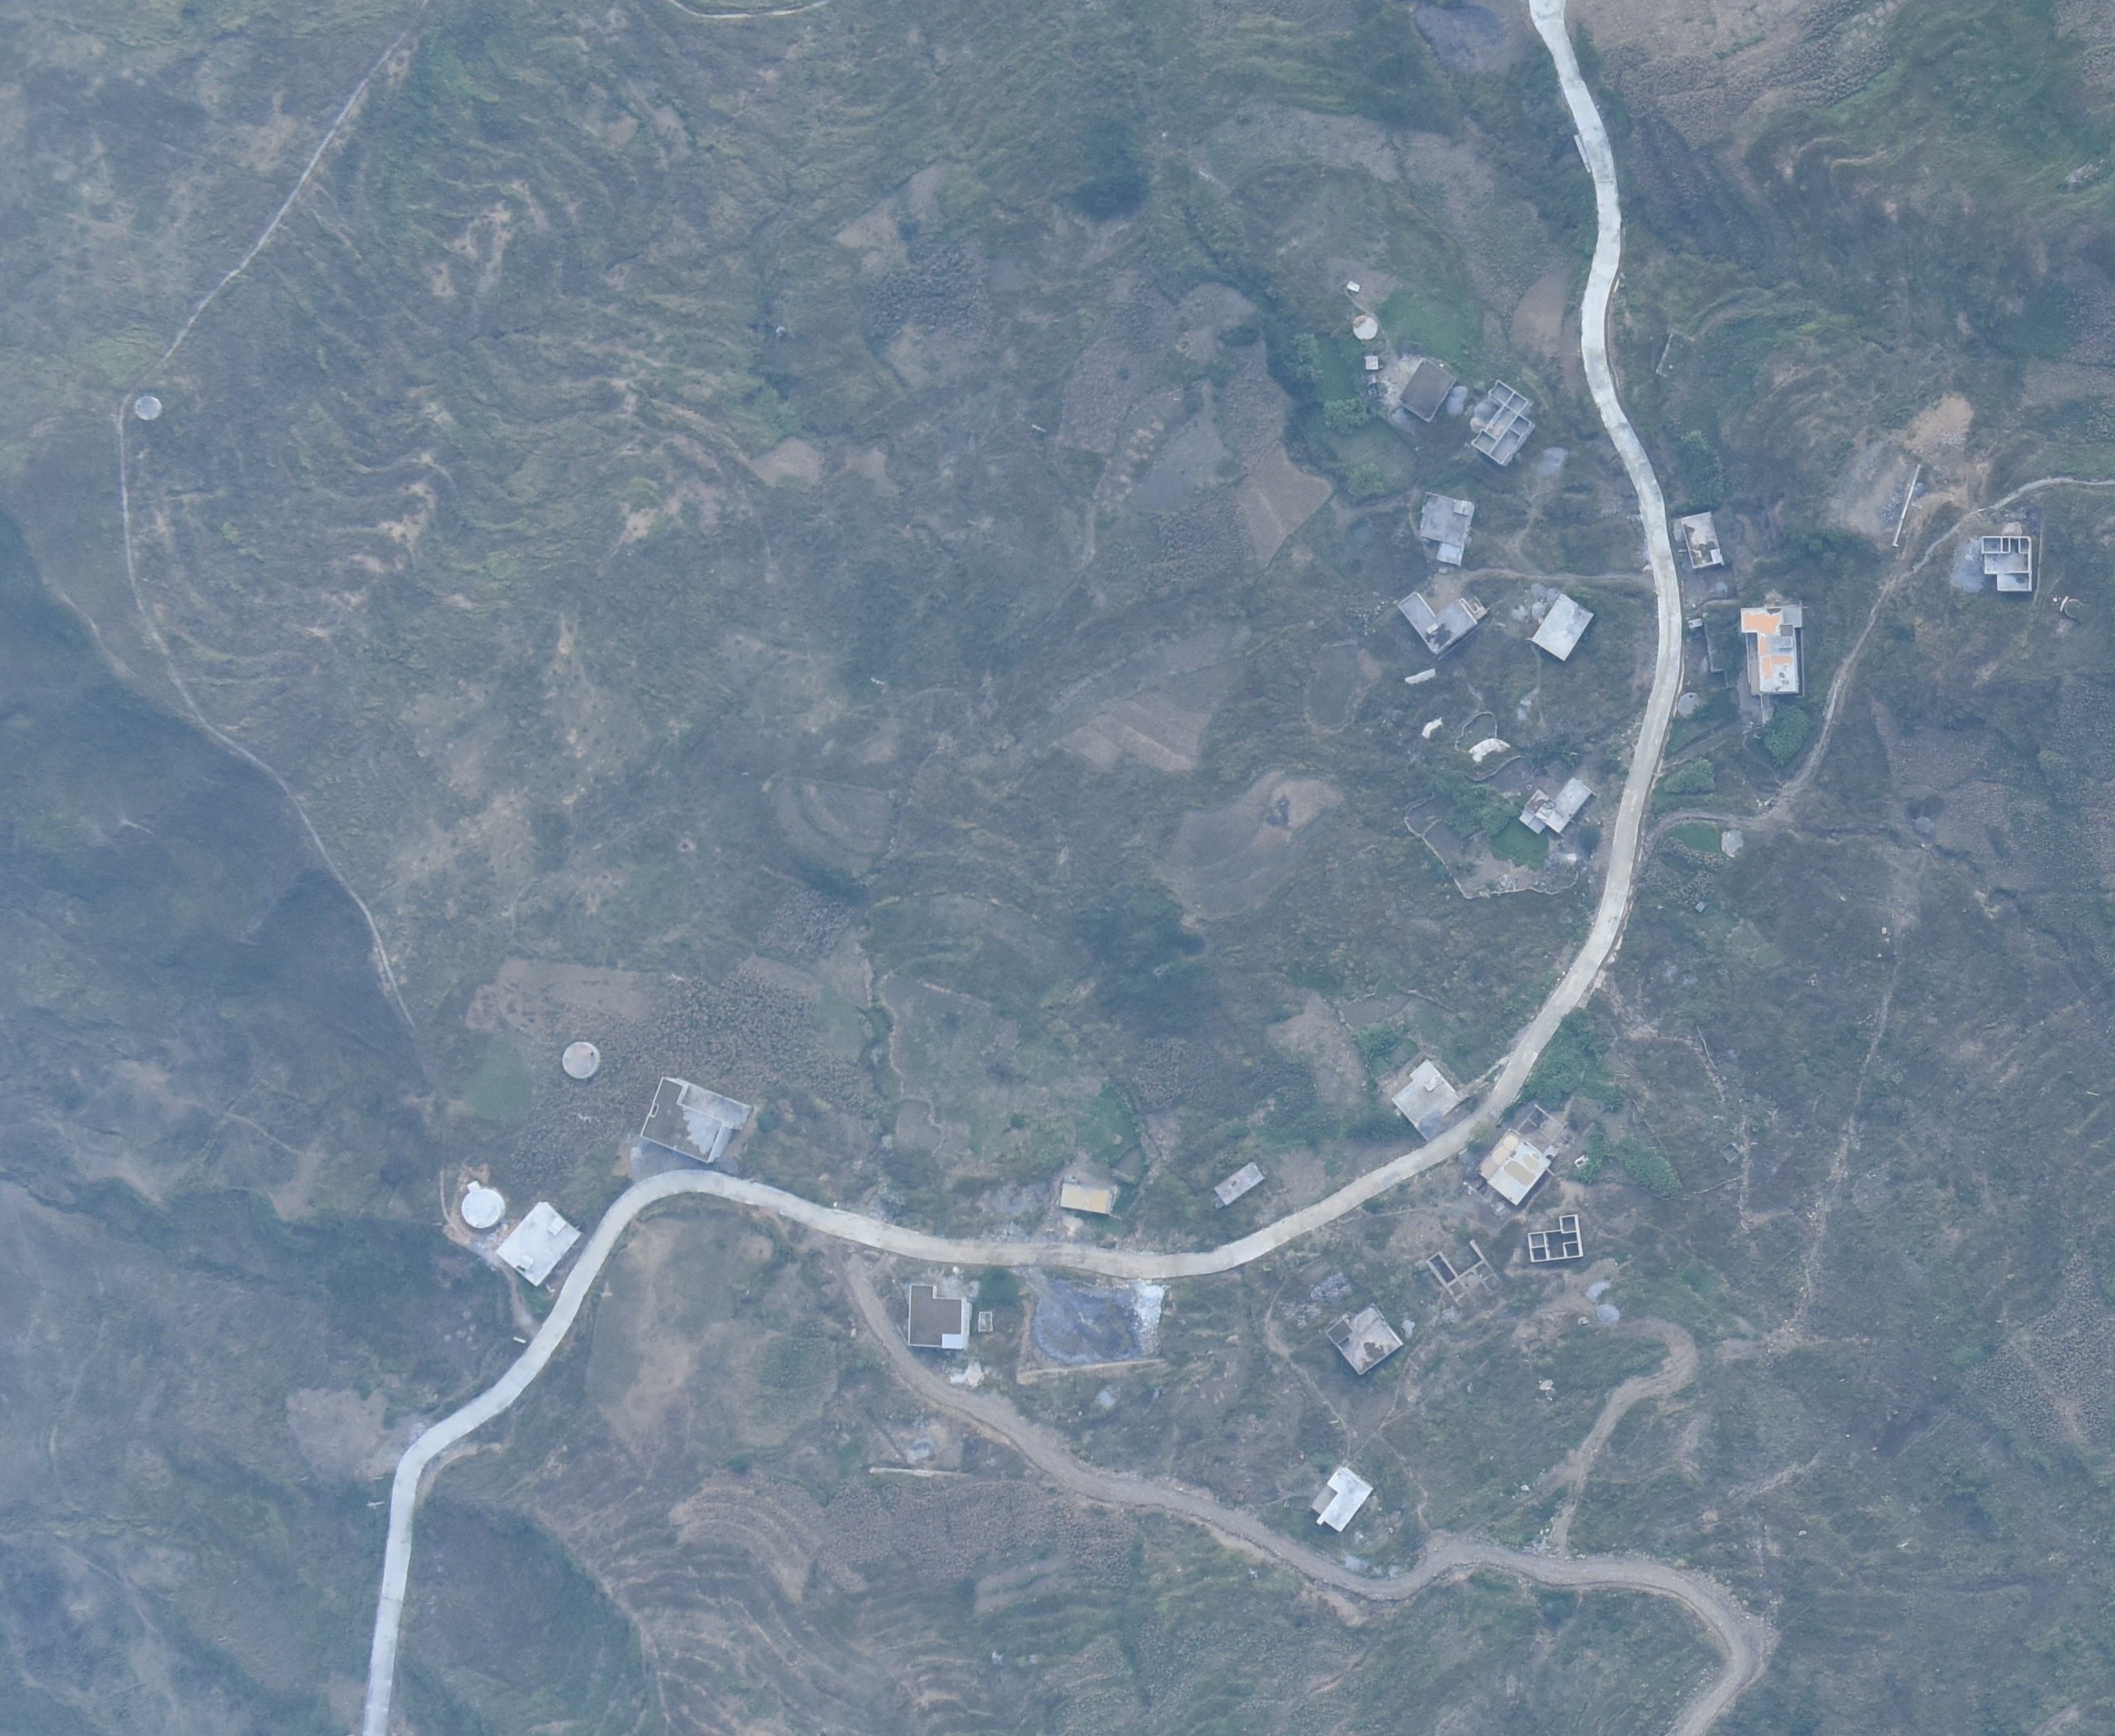building: (642, 1075, 752, 1163), (498, 1203, 582, 1287), (1741, 604, 1808, 695), (1399, 589, 1487, 652), (1479, 1128, 1549, 1206), (1326, 1307, 1404, 1375), (1475, 380, 1537, 465), (1394, 1060, 1460, 1136), (903, 1281, 970, 1348), (1313, 1463, 1372, 1533), (1522, 779, 1595, 834), (1533, 593, 1591, 662), (1420, 493, 1472, 567), (1399, 357, 1453, 420), (1980, 534, 2036, 591), (1527, 1214, 1584, 1262), (1680, 513, 1725, 568), (1212, 1163, 1263, 1206), (1057, 1177, 1114, 1212), (1365, 354, 1379, 367)
cable-tower: (1029, 421, 1050, 435), (363, 1497, 387, 1509), (868, 674, 887, 688), (668, 971, 686, 985), (509, 1334, 529, 1345), (576, 1111, 594, 1122)
quarry: (1022, 1268, 1166, 1364)
well: (461, 1188, 504, 1231), (563, 1040, 600, 1078), (1677, 691, 1705, 722), (1721, 831, 1749, 858), (133, 392, 160, 419), (1354, 313, 1380, 338)
